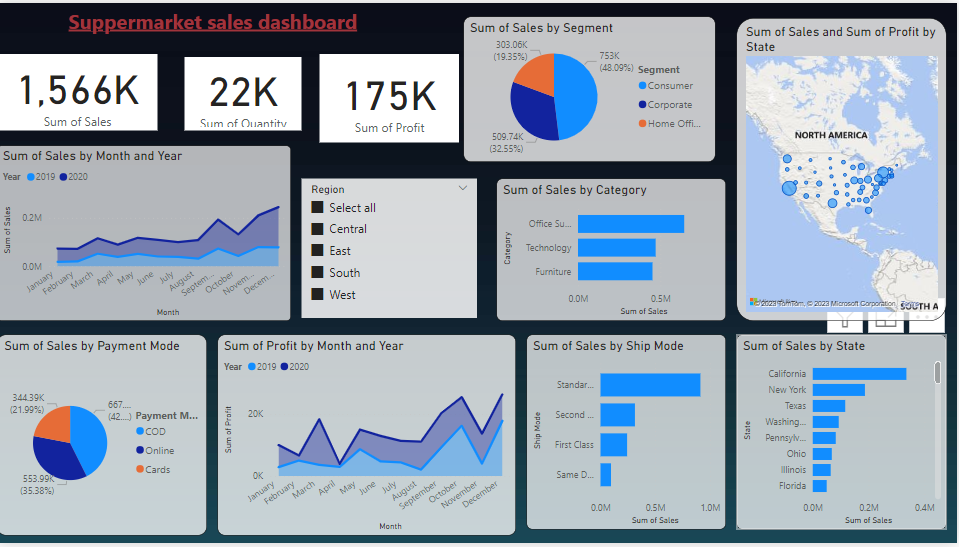

What the dashboard file says about the page in this screenshot:
{"tool":"powerbi","page":{"name":"Page 1","canvas":[1280,720],"ordinal":0},"visuals":[{"type":"clusteredBarChart","fields":{"Category":["SuperStore_Sales_Dataset.Category"],"Y":["Sum(SuperStore_Sales_Dataset.Sales)"]},"box":[666,234,306,190],"z":0},{"type":"clusteredBarChart","fields":{"Category":["SuperStore_Sales_Dataset.State"],"Y":["Sum(SuperStore_Sales_Dataset.Sales)"]},"box":[986,442,280,260],"z":1000},{"type":"clusteredBarChart","fields":{"Category":["SuperStore_Sales_Dataset.Ship Mode"],"Y":["Sum(SuperStore_Sales_Dataset.Sales)"]},"box":[706,442,266,260],"z":2000},{"type":"stackedAreaChart","fields":{"Y":["Sum(SuperStore_Sales_Dataset.Sales)"],"Category":["SuperStore_Sales_Dataset.Order Date.Variation.Date Hierarchy.Month"],"Series":["SuperStore_Sales_Dataset.Order Date.Variation.Date Hierarchy.Year"]},"box":[0,190,392,234],"z":3000},{"type":"stackedAreaChart","fields":{"Y":["Sum(SuperStore_Sales_Dataset.Profit)"],"Category":["SuperStore_Sales_Dataset.Order Date.Variation.Date Hierarchy.Month"],"Series":["SuperStore_Sales_Dataset.Order Date.Variation.Date Hierarchy.Year"]},"box":[294,442,398,268],"z":4000},{"type":"map","fields":{"Category":["SuperStore_Sales_Dataset.State"],"Size":["Sum(SuperStore_Sales_Dataset.Sales)"]},"box":[986,20,280,404],"z":5000},{"type":"pieChart","fields":{"Category":["SuperStore_Sales_Dataset.Segment"],"Y":["Sum(SuperStore_Sales_Dataset.Sales)"]},"box":[622,18,336,194],"z":6000},{"type":"pieChart","fields":{"Y":["Sum(SuperStore_Sales_Dataset.Sales)"],"Category":["SuperStore_Sales_Dataset.Payment Mode"]},"box":[0,442,280,268],"z":7000},{"type":"slicer","fields":{"Values":["SuperStore_Sales_Dataset.Region"]},"box":[406,234,234,186],"z":8000},{"type":"textbox","box":[90,0,490,90],"z":9000},{"type":"card","fields":{"Values":["Sum(SuperStore_Sales_Dataset.Profit)"]},"box":[430,68,186,118],"z":9001},{"type":"card","fields":{"Values":["Sum(SuperStore_Sales_Dataset.Sales)"]},"box":[0,68,214,102],"z":9002},{"type":"card","fields":{"Values":["Sum(SuperStore_Sales_Dataset.Quantity)"]},"box":[250,72,156,98],"z":9003}]}

Visuals, with their boxes in screenshot pixels (x1, y1, x2, y2), scaled from the page's 1280x720 canvas onto the 959x547 screenshot:
clusteredBarChart - SuperStore_Sales_Dataset.Category x Sum(SuperStore_Sales_Dataset.Sales): BBox(499, 178, 728, 322)
clusteredBarChart - SuperStore_Sales_Dataset.State x Sum(SuperStore_Sales_Dataset.Sales): BBox(739, 336, 949, 533)
clusteredBarChart - SuperStore_Sales_Dataset.Ship Mode x Sum(SuperStore_Sales_Dataset.Sales): BBox(529, 336, 728, 533)
stackedAreaChart - Sum(SuperStore_Sales_Dataset.Sales) x SuperStore_Sales_Dataset.Order Date.Variation.Date Hierarchy.Month: BBox(0, 144, 294, 322)
stackedAreaChart - Sum(SuperStore_Sales_Dataset.Profit) x SuperStore_Sales_Dataset.Order Date.Variation.Date Hierarchy.Month: BBox(220, 336, 518, 539)
map - SuperStore_Sales_Dataset.State x Sum(SuperStore_Sales_Dataset.Sales): BBox(739, 15, 949, 322)
pieChart - SuperStore_Sales_Dataset.Segment x Sum(SuperStore_Sales_Dataset.Sales): BBox(466, 14, 718, 161)
pieChart - Sum(SuperStore_Sales_Dataset.Sales) x SuperStore_Sales_Dataset.Payment Mode: BBox(0, 336, 210, 539)
slicer - SuperStore_Sales_Dataset.Region: BBox(304, 178, 480, 319)
textbox: BBox(67, 0, 435, 68)
card - Sum(SuperStore_Sales_Dataset.Profit): BBox(322, 52, 462, 141)
card - Sum(SuperStore_Sales_Dataset.Sales): BBox(0, 52, 160, 129)
card - Sum(SuperStore_Sales_Dataset.Quantity): BBox(187, 55, 304, 129)
